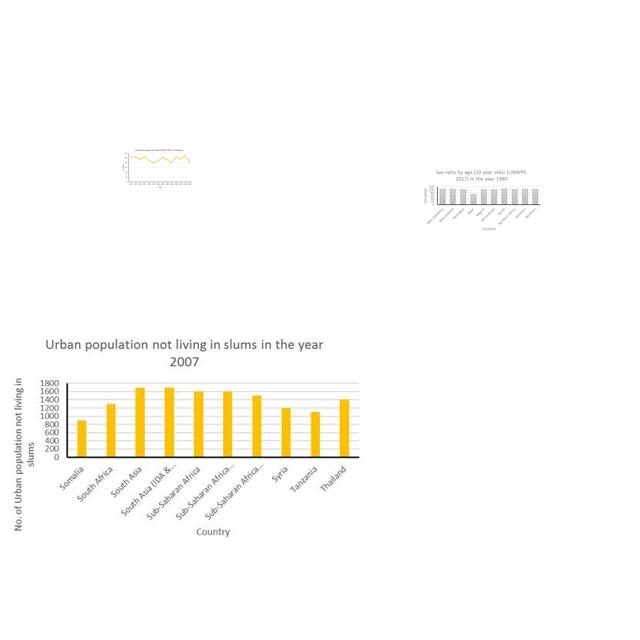Graph: (5, 332, 364, 540), (421, 167, 542, 232), (121, 147, 194, 189)
